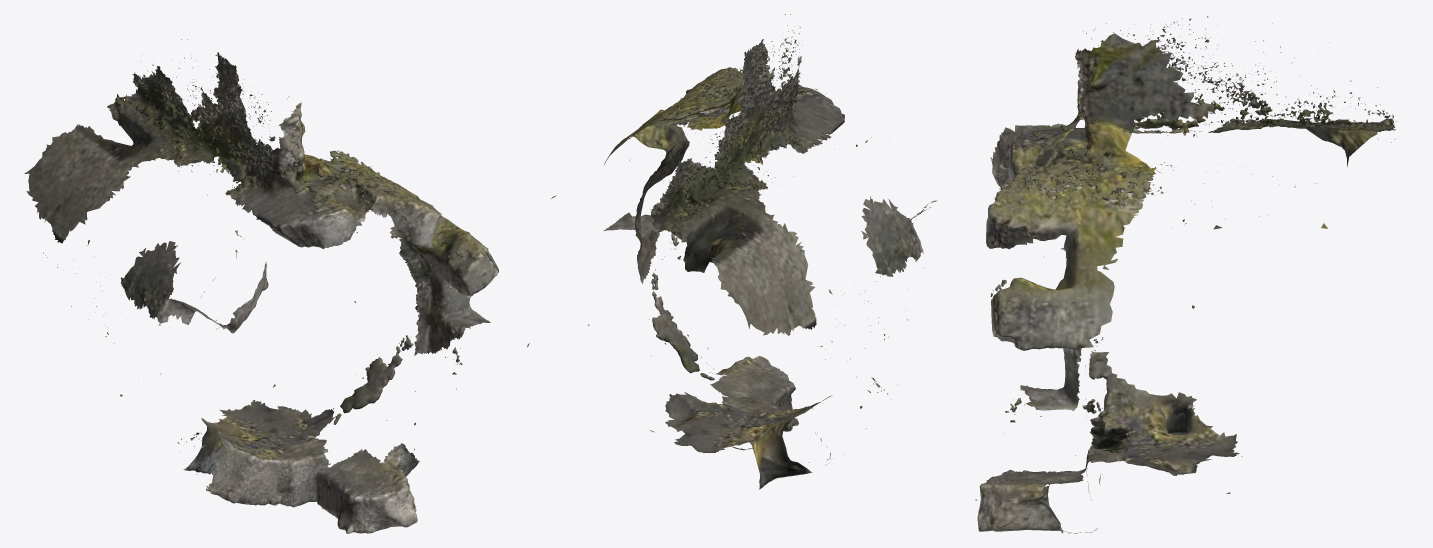
3 views of the same model, side by side, from view 1: azimuth 30°, elevation 25°; view 2: azimuth 150°, elevation 25°; view 3: azimuth 270°, elevation 25° (orthographic). The views are drawn at different scales.
Bounding box in the file's own units: 8.06 × 10.24 × 8.66.
1 material, 1 textured.
